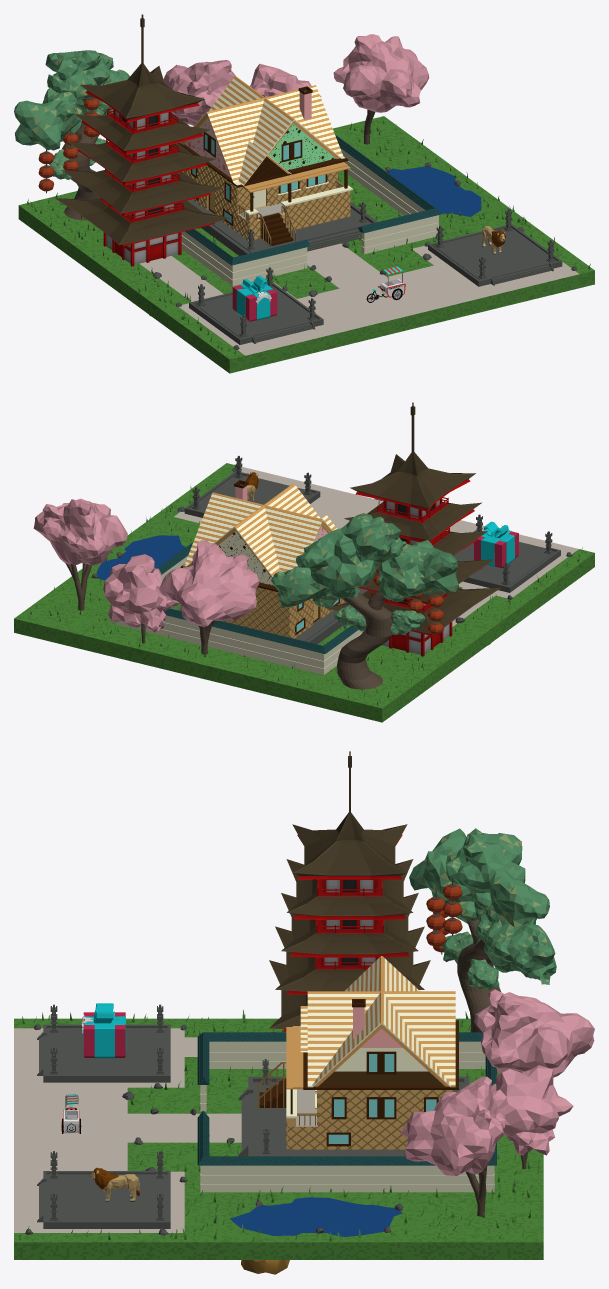
The picture shows the model from 3 angles, top to bottom: view 1: azimuth 30°, elevation 25°; view 2: azimuth 150°, elevation 25°; view 3: azimuth 270°, elevation 25°; orthographic projection. The views are drawn at different scales.
Parts seen in each view (by area): view 1: Cube.005, Cube.1102, OBJRANDOM_GIANT_PRESENT, VEHICLES_SNOWBAL_BIKE; view 2: Cube.005, Cube.1102, OBJRANDOM_GIANT_PRESENT; view 3: Cube.005, Cube.1102, OBJRANDOM_GIANT_PRESENT, ANIMAL_LEON.
Boxes of the visible parts, bbox=[...] form: Cube.005: bbox=[14, 14, 594, 373]; Cube.1102: bbox=[178, 76, 352, 246]; OBJRANDOM_GIANT_PRESENT: bbox=[232, 275, 277, 321]; VEHICLES_SNOWBAL_BIKE: bbox=[366, 266, 405, 302]; Cube.005: bbox=[14, 402, 594, 722]; Cube.1102: bbox=[180, 480, 344, 638]; OBJRANDOM_GIANT_PRESENT: bbox=[474, 521, 518, 568]; Cube.005: bbox=[14, 751, 594, 1259]; Cube.1102: bbox=[257, 956, 458, 1149]; OBJRANDOM_GIANT_PRESENT: bbox=[81, 1003, 126, 1058]; ANIMAL_LEON: bbox=[90, 1167, 139, 1201].
Size of the model in its own units: 4528 by 2803 by 4389.
Materials: 38 (6 with a texture image).
